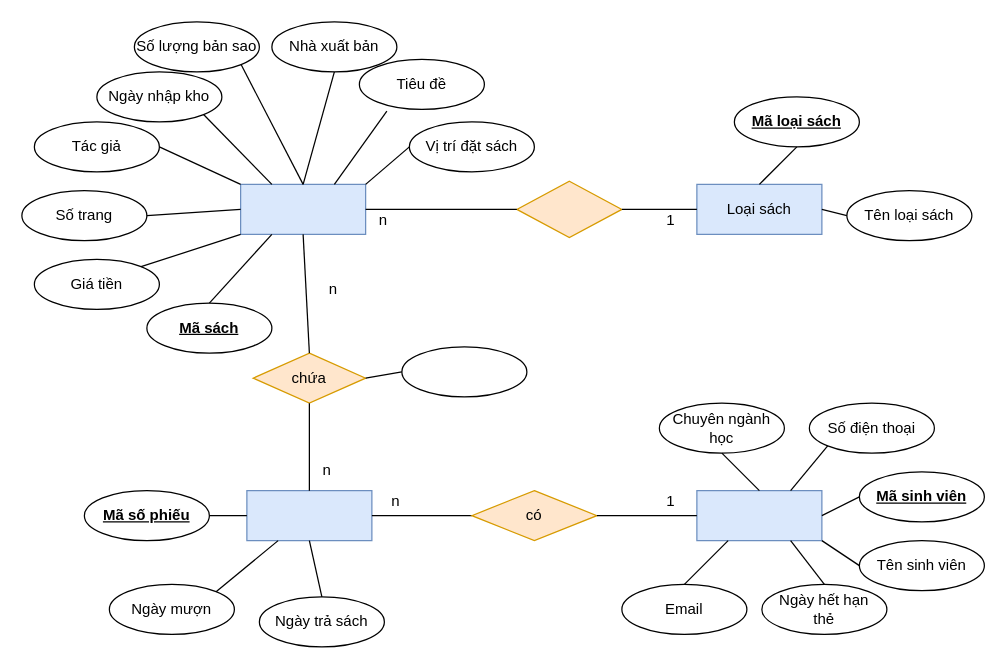
Some shapes in this 1006 by 669 pixel diagram are drawn without their labels. The shapes that lost their labels are listed below. From the top down, each one's centre as x and y in pixels, then its label:
At [302,208]: "Quyển Sách".
At [569,209]: "thuộc".
At [464,371]: "Ghi chú".
At [309,515]: "Phiếu mượn sách".
At [759,515]: "Sinh Viên".
